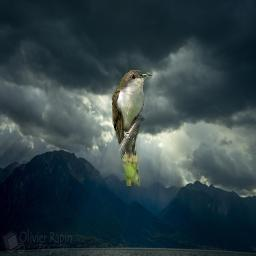Cuckoo: (112, 66, 152, 186)
